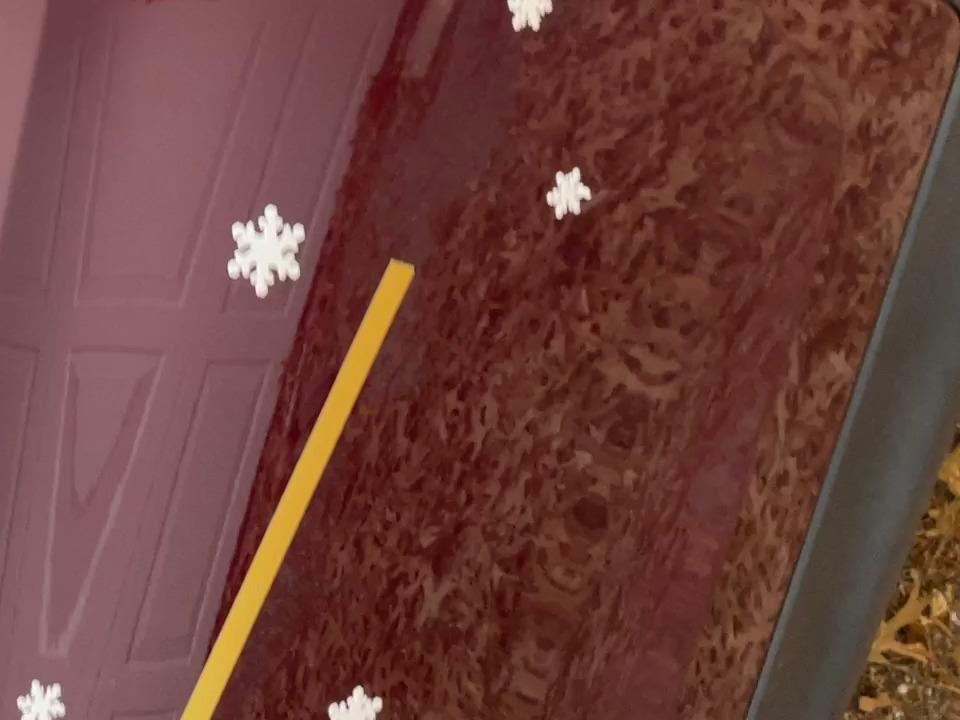dent: (219, 194, 327, 302), (536, 159, 597, 231), (503, 0, 565, 42)
scratch: (166, 256, 426, 720)
